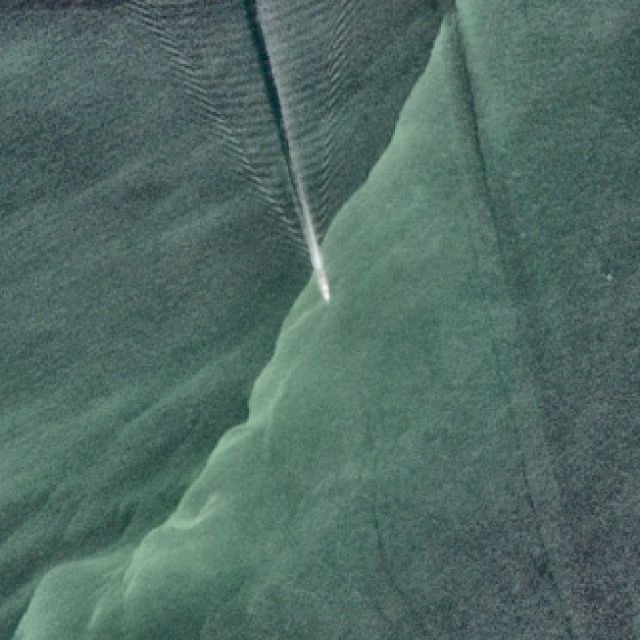wake: (206, 82, 401, 324)
